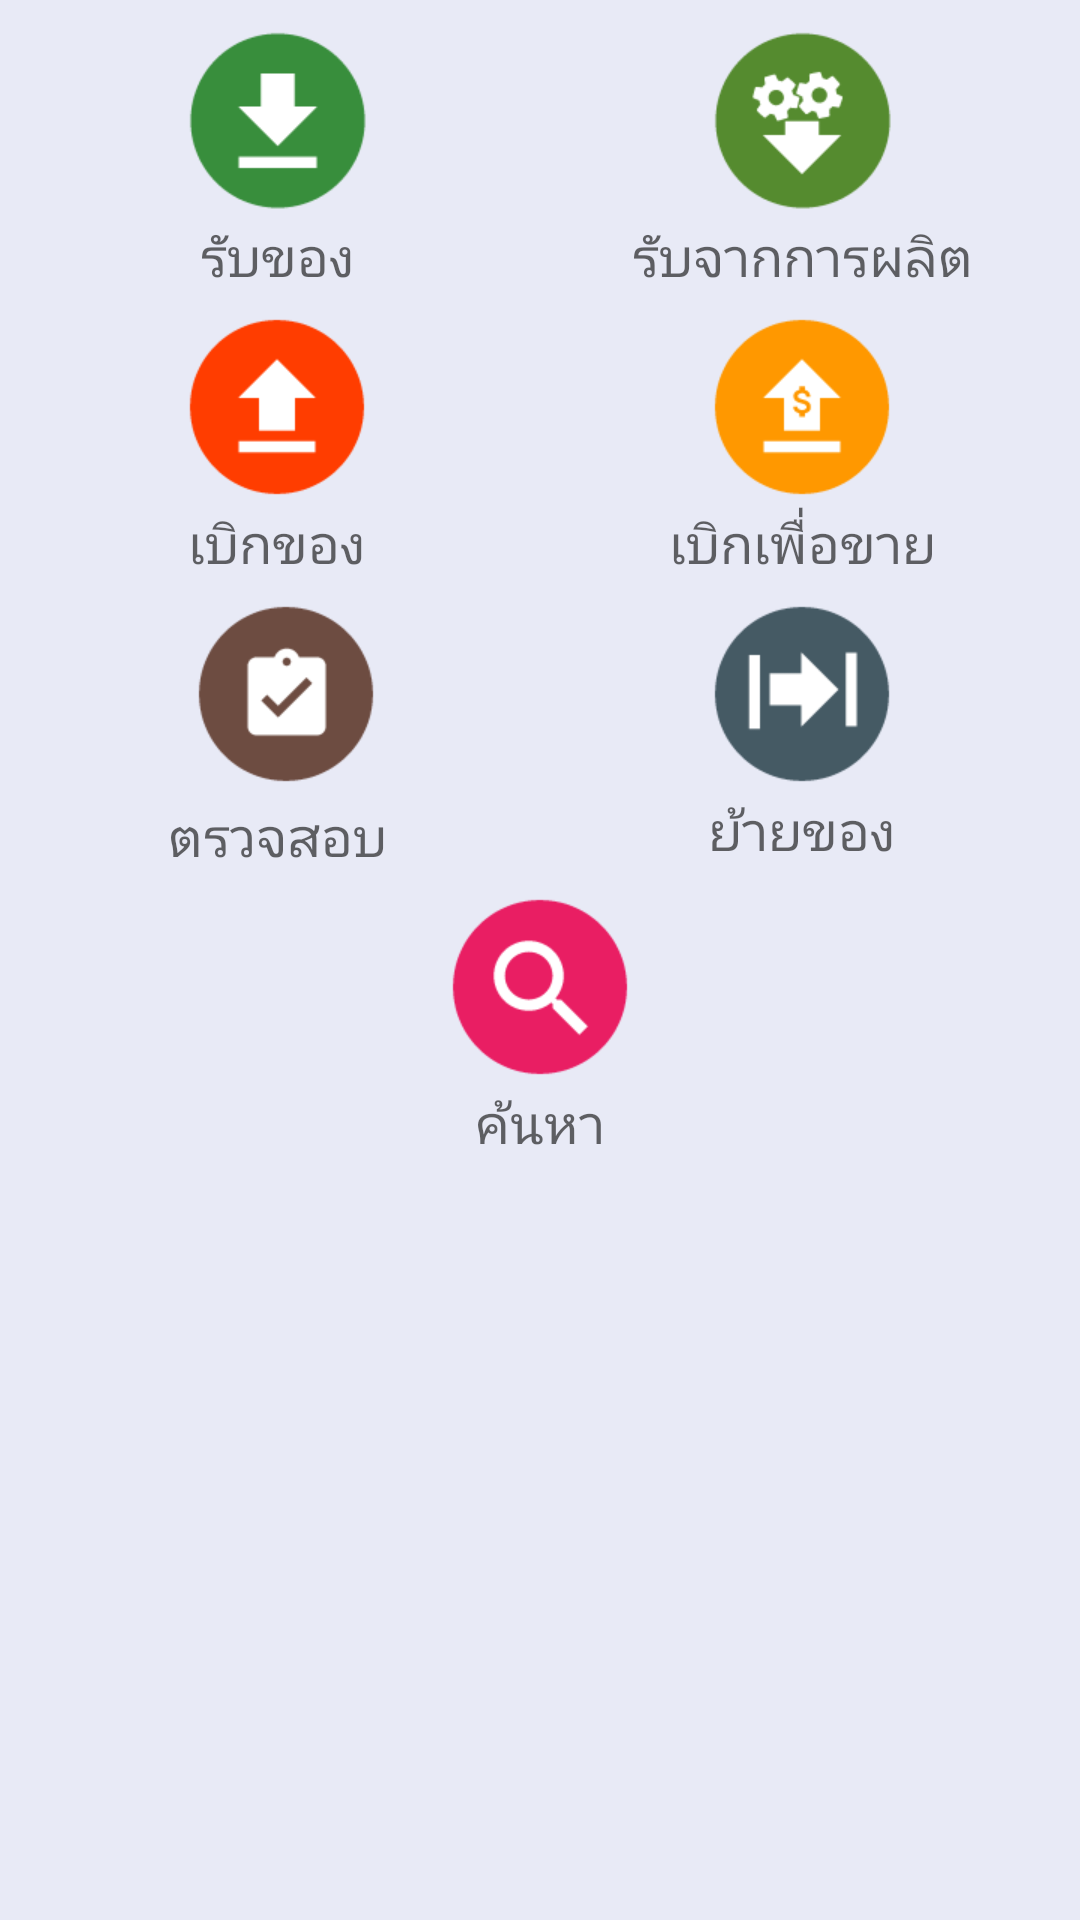

Icon click points for this 1080*1920 phone screenshot, format point (x, y):
pick: point (278, 121)
prodpick: point (803, 121)
